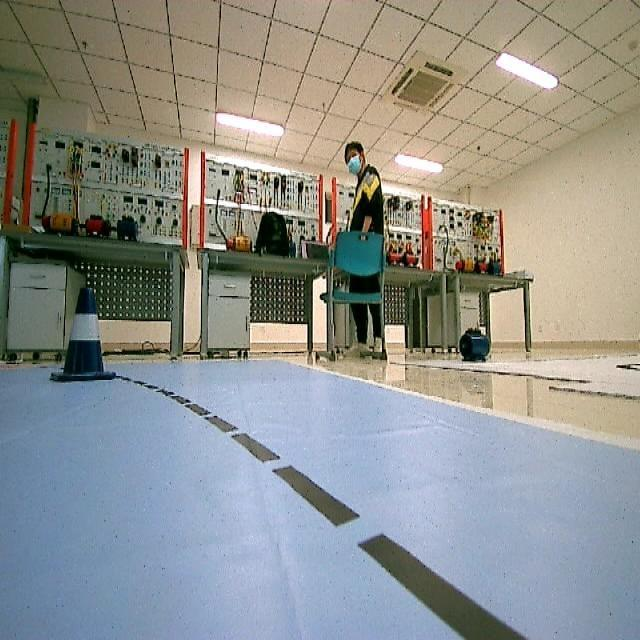obstacle: (40, 284, 126, 384)
